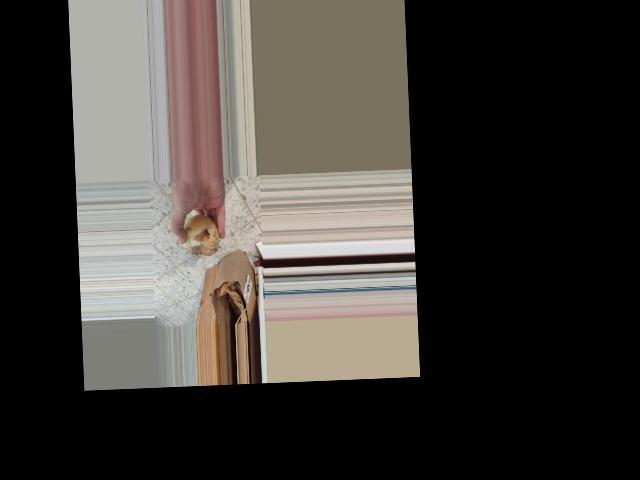onion: (174, 211, 220, 257)
